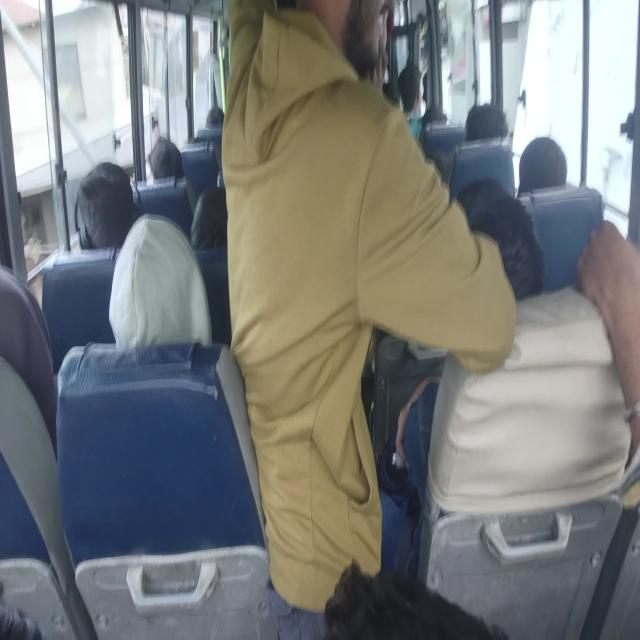person: (227, 0, 401, 493), (577, 217, 640, 500), (116, 226, 206, 358), (457, 186, 541, 287), (0, 283, 52, 426), (184, 179, 251, 256), (81, 170, 136, 254), (515, 144, 568, 217), (409, 144, 446, 208), (142, 139, 184, 185), (469, 102, 503, 143), (402, 57, 424, 114), (426, 106, 448, 136), (205, 108, 228, 134)
